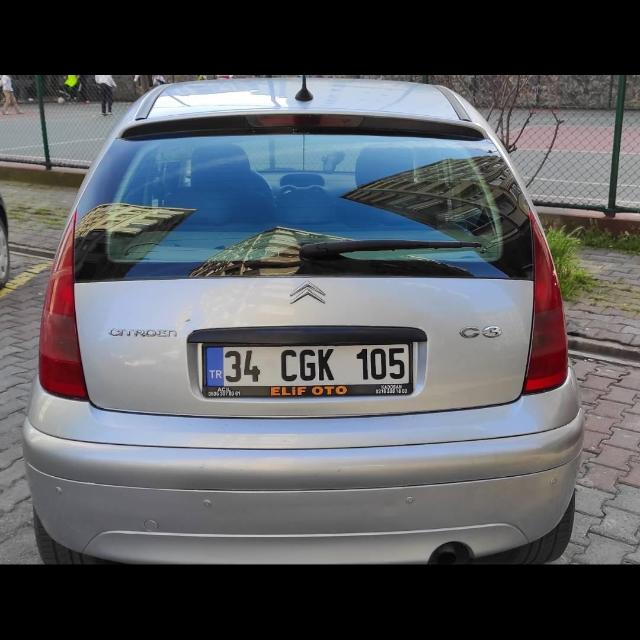Plaka: (204, 343, 412, 387)
